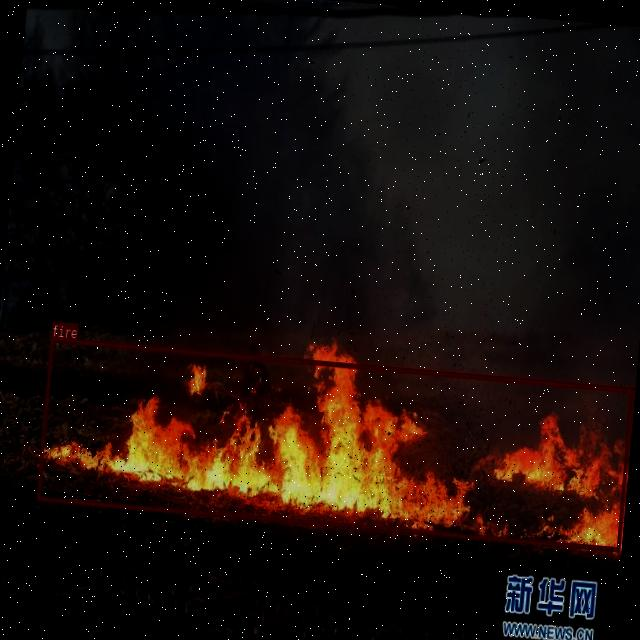fire: (36, 337, 633, 550)
